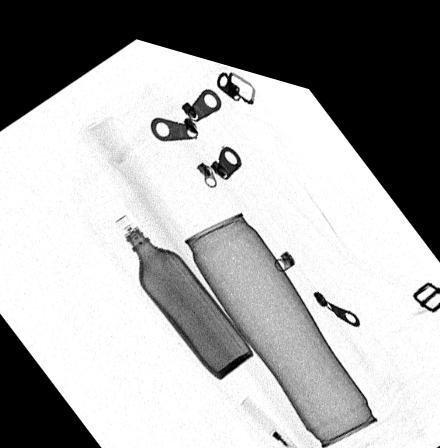Lighter: (239, 381, 319, 448)
